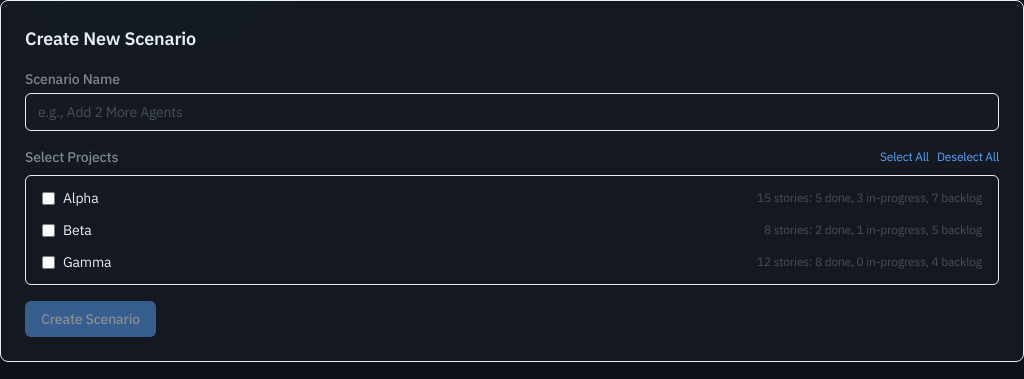
Test case: ScenarioCreator › enables submit when name and project are both set
Type "My Scenario" into the field labelled "Scenario Name" at (512, 112), box x1=25 y1=93 x2=999 y2=131
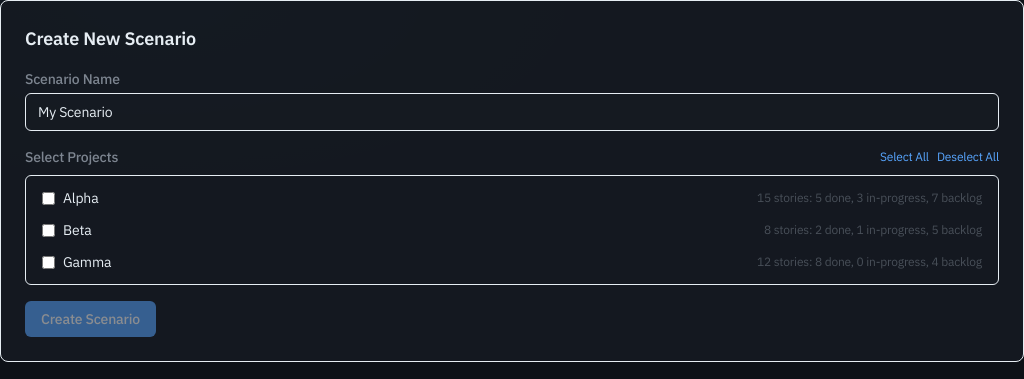
Click the text "Alpha" at (81, 198), box x1=63 y1=188 x2=98 y2=208
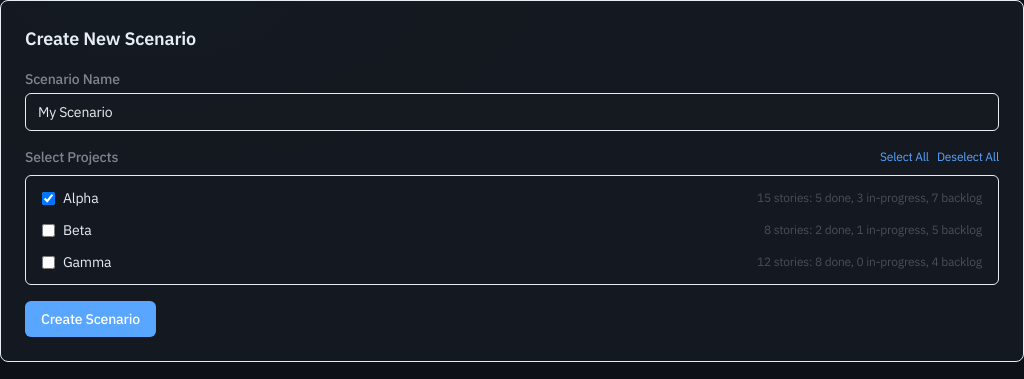
Check: the button "Create Scenario" is enabled, box x1=25 y1=301 x2=156 y2=337
